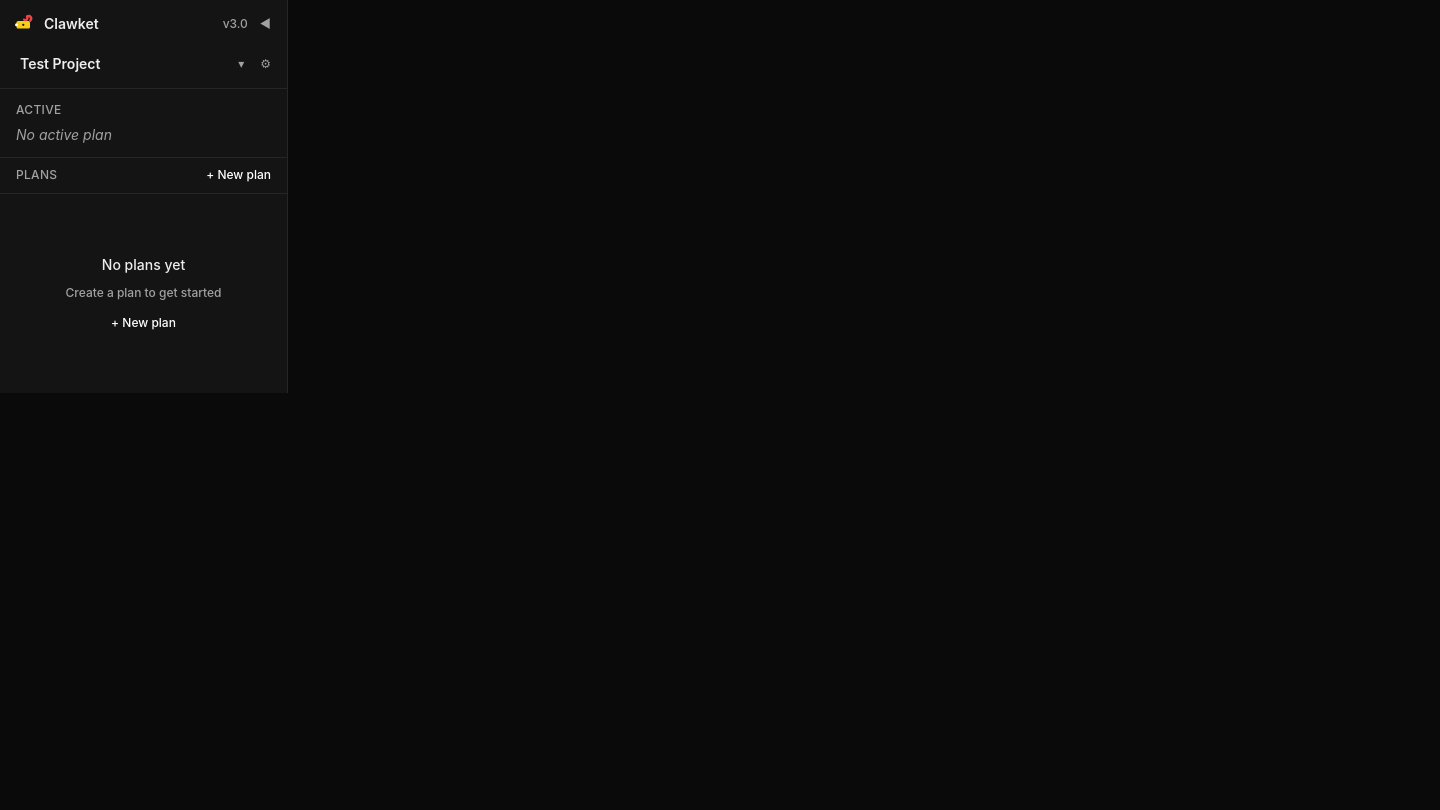
Test: Sidebar project settings › opens the ProjectSettingsModal when the ⚙ button is clicked
The width and height of the screenshot is (1440, 810).
Step 1. Click the button with test id "sidebar-project-settings" → [266, 64], box [256, 55, 275, 73]
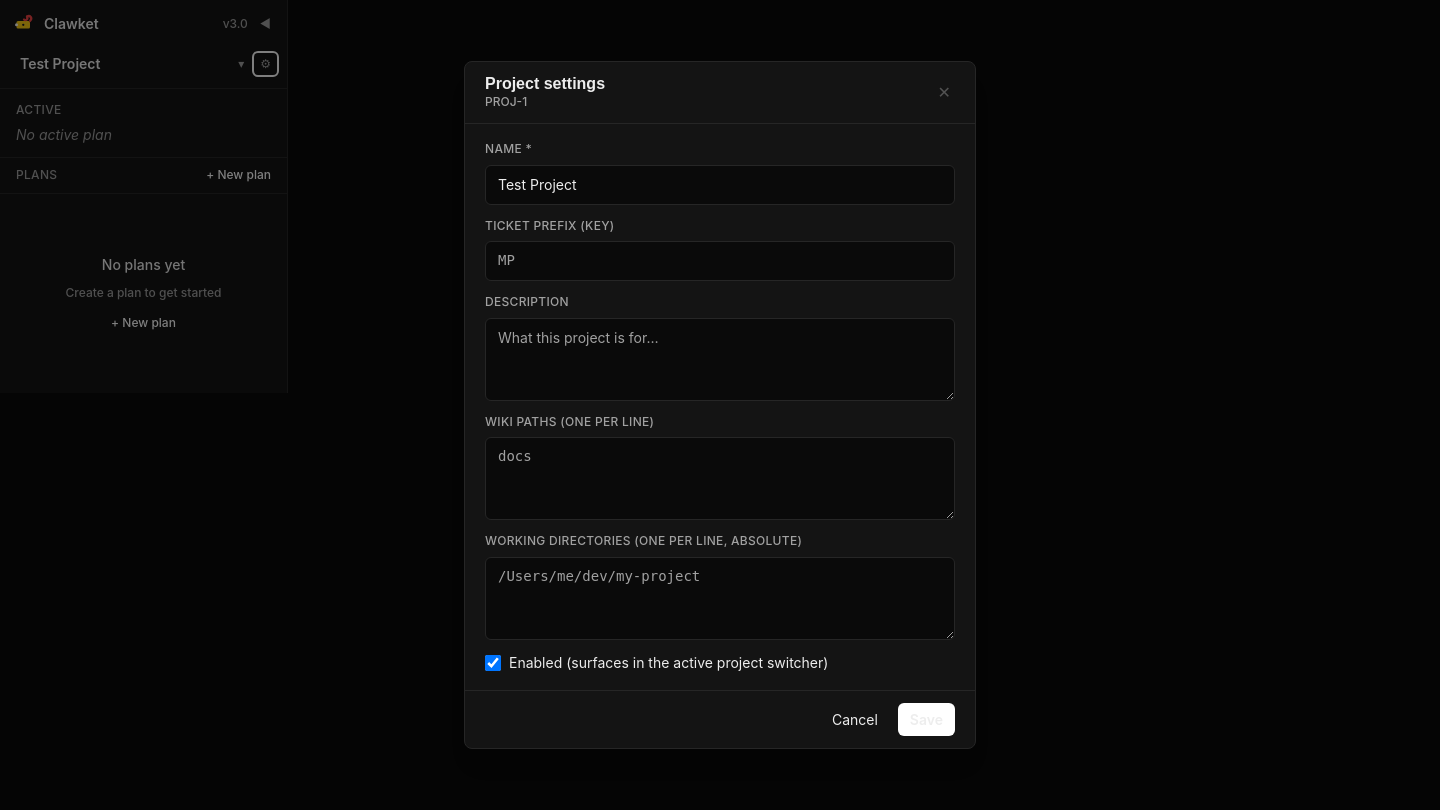
Now the dialog with test id "project-settings-modal" is shown
